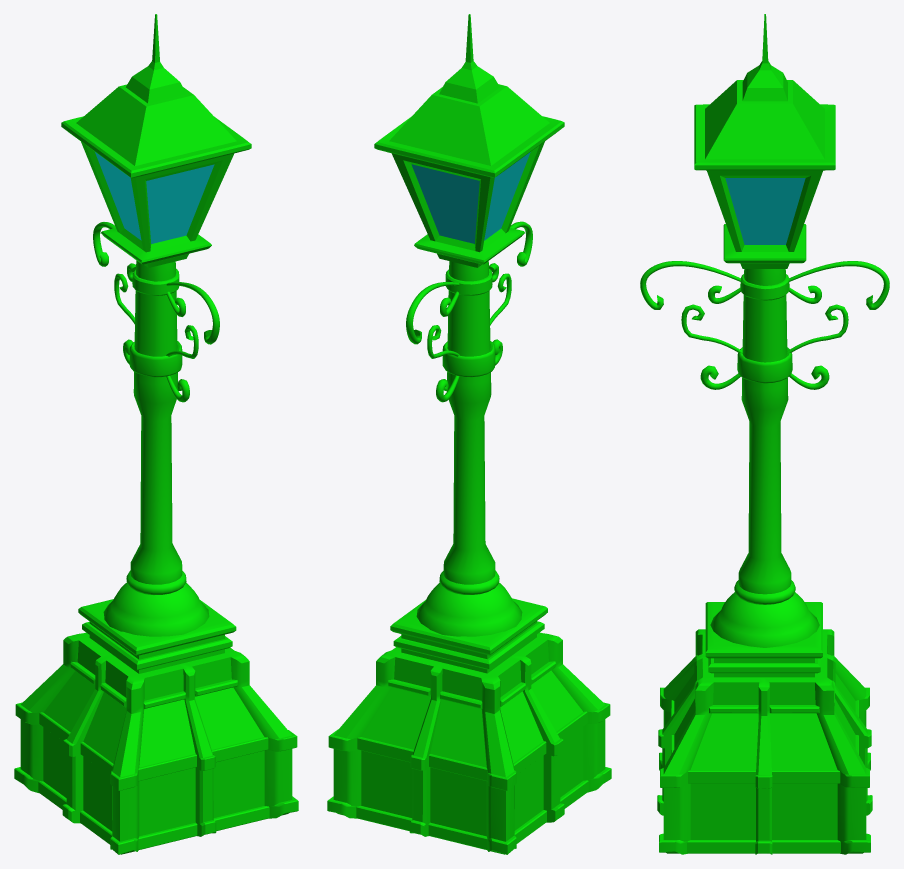
File: LightPole.fbx
The picture shows the model from 3 angles, left to right: view 1: azimuth 30°, elevation 25°; view 2: azimuth 150°, elevation 25°; view 3: azimuth 270°, elevation 25°; orthographic projection.
Parts seen in each view (by area): view 1: LightPole; view 2: LightPole; view 3: LightPole.
Part boxes in pixels (x1,y1,x2,y2): LightPole: (14, 14, 298, 854); LightPole: (327, 14, 611, 854); LightPole: (640, 14, 889, 854).
Size of the model in its own units: 1.18 by 4.86 by 1.38.
